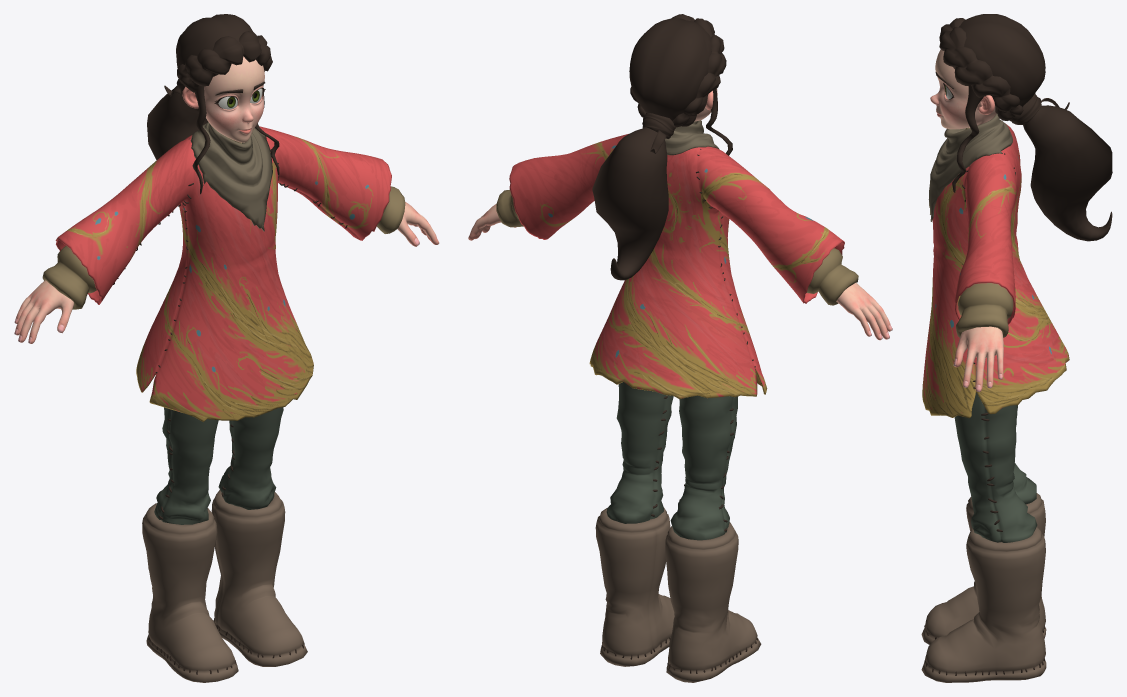
File: spring.glb
3 renders of one model, left to right at view 1: azimuth 30°, elevation 25°; view 2: azimuth 150°, elevation 25°; view 3: azimuth 270°, elevation 25°, orthographic.
Parts seen in each view (by area): view 1: GEO-spring_jacket.001, GEO_spring_boots.l.001, GEO_spring_boots.r.001, GEO_spring_pants.001, GEO_spring_scarf.001, GEO-spring_head.001, GEO_spring_hair_braided.001, GEO_spring_arms.001, GEO-spring_pullover.001, GEO_spring_hair_ponytail.001, GEO_spring_hair_main.001, GEO_spring_hair_ears.001; view 2: GEO-spring_jacket.001, GEO_spring_pants.001, GEO_spring_boots.r.001, GEO_spring_boots.l.001, GEO_spring_hair_ponytail.001, GEO_spring_hair_main.001, GEO-spring_pullover.001, GEO_spring_arms.001, GEO_spring_hair_braided.001, GEO_spring_scarf.001; view 3: GEO-spring_jacket.001, GEO_spring_boots.l.001, GEO_spring_hair_ponytail.001, GEO_spring_pants.001, GEO_spring_hair_main.001, GEO_spring_hair_braided.001, GEO_spring_scarf.001, GEO_spring_boots.r.001, GEO-spring_pullover.001, GEO_spring_arms.001, GEO-spring_head.001, GEO_spring_hair_ears.001 (+1 smaller).
Boxes of the visible parts, x1=… form: GEO-spring_jacket.001: x1=55, y1=126, x2=391, y2=421; GEO_spring_boots.l.001: x1=211, y1=490, x2=307, y2=666; GEO_spring_boots.r.001: x1=142, y1=503, x2=238, y2=682; GEO_spring_pants.001: x1=154, y1=407, x2=283, y2=524; GEO_spring_scarf.001: x1=190, y1=122, x2=272, y2=231; GEO-spring_head.001: x1=182, y1=56, x2=264, y2=142; GEO_spring_hair_braided.001: x1=176, y1=31, x2=272, y2=108; GEO_spring_arms.001: x1=14, y1=202, x2=439, y2=343; GEO-spring_pullover.001: x1=42, y1=137, x2=405, y2=309; GEO_spring_hair_ponytail.001: x1=147, y1=85, x2=208, y2=160; GEO_spring_hair_main.001: x1=176, y1=14, x2=256, y2=67; GEO_spring_hair_ears.001: x1=192, y1=85, x2=279, y2=194; GEO-spring_jacket.001: x1=509, y1=134, x2=844, y2=399; GEO_spring_pants.001: x1=606, y1=382, x2=737, y2=540; GEO_spring_boots.r.001: x1=665, y1=522, x2=761, y2=682; GEO_spring_boots.l.001: x1=595, y1=508, x2=674, y2=666; GEO_spring_hair_ponytail.001: x1=592, y1=127, x2=668, y2=280; GEO_spring_hair_main.001: x1=629, y1=18, x2=711, y2=120; GEO-spring_pullover.001: x1=496, y1=189, x2=858, y2=305; GEO_spring_arms.001: x1=468, y1=204, x2=892, y2=340; GEO_spring_hair_braided.001: x1=630, y1=14, x2=726, y2=127; GEO_spring_scarf.001: x1=665, y1=120, x2=719, y2=155; GEO-spring_jacket.001: x1=922, y1=123, x2=1069, y2=418; GEO_spring_boots.l.001: x1=921, y1=527, x2=1046, y2=682; GEO_spring_hair_ponytail.001: x1=1023, y1=105, x2=1112, y2=241; GEO_spring_pants.001: x1=954, y1=392, x2=1037, y2=542; GEO_spring_hair_main.001: x1=959, y1=14, x2=1045, y2=113; GEO_spring_hair_braided.001: x1=939, y1=18, x2=1023, y2=120; GEO_spring_scarf.001: x1=928, y1=114, x2=1012, y2=221; GEO_spring_boots.r.001: x1=921, y1=493, x2=1046, y2=644; GEO-spring_pullover.001: x1=956, y1=127, x2=1013, y2=337; GEO_spring_arms.001: x1=953, y1=326, x2=1003, y2=391; GEO-spring_head.001: x1=930, y1=49, x2=996, y2=129; GEO_spring_hair_ears.001: x1=952, y1=85, x2=983, y2=192.
Size of the model in its own units: 1.04 by 1.5 by 0.4064.
18 materials, 4 textured.
